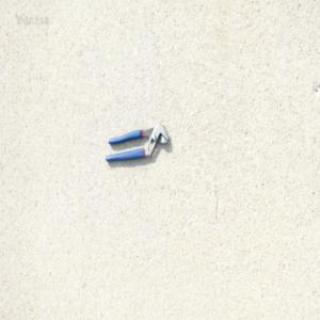Pliertrack_idkeyframe: (104, 122, 170, 164)
